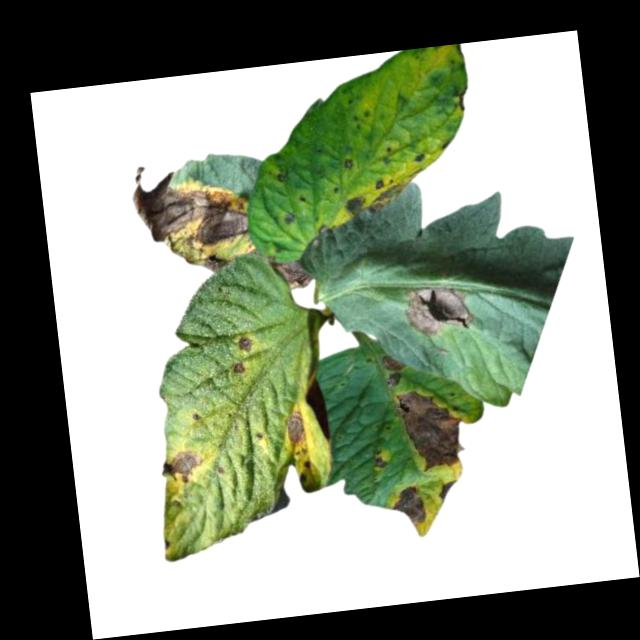Early_blight: (127, 154, 254, 281), (394, 383, 469, 473), (401, 276, 475, 339), (365, 178, 416, 216), (269, 252, 316, 293), (157, 447, 205, 487), (389, 483, 429, 527), (283, 404, 310, 450), (379, 350, 409, 386), (339, 193, 368, 219), (434, 476, 459, 503), (237, 332, 254, 356), (372, 448, 390, 470), (273, 166, 289, 183), (282, 210, 298, 225), (234, 360, 249, 375), (344, 157, 354, 169)
